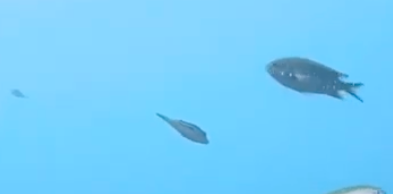hugu: (152, 107, 219, 149)
smallfish: (261, 48, 374, 121)
